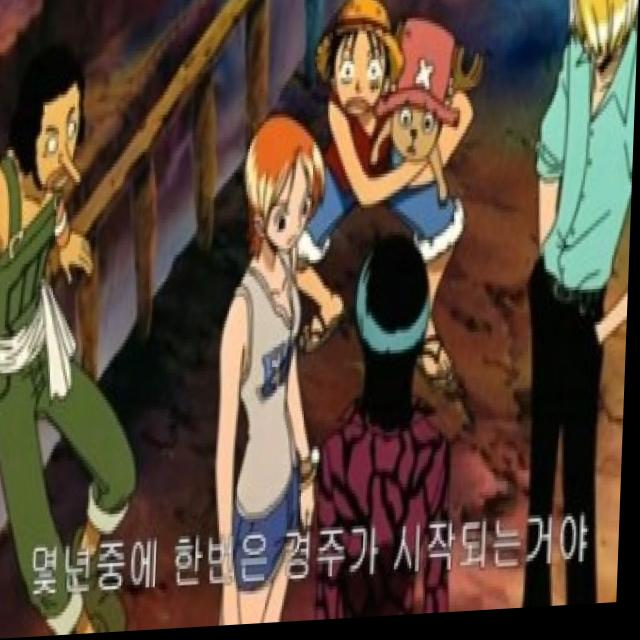Chyopa: (375, 16, 480, 199)
Luffy: (313, 0, 406, 123)
Nami: (237, 109, 334, 284)
Sangdi: (559, 0, 640, 87)
Usopp: (4, 36, 96, 206)
